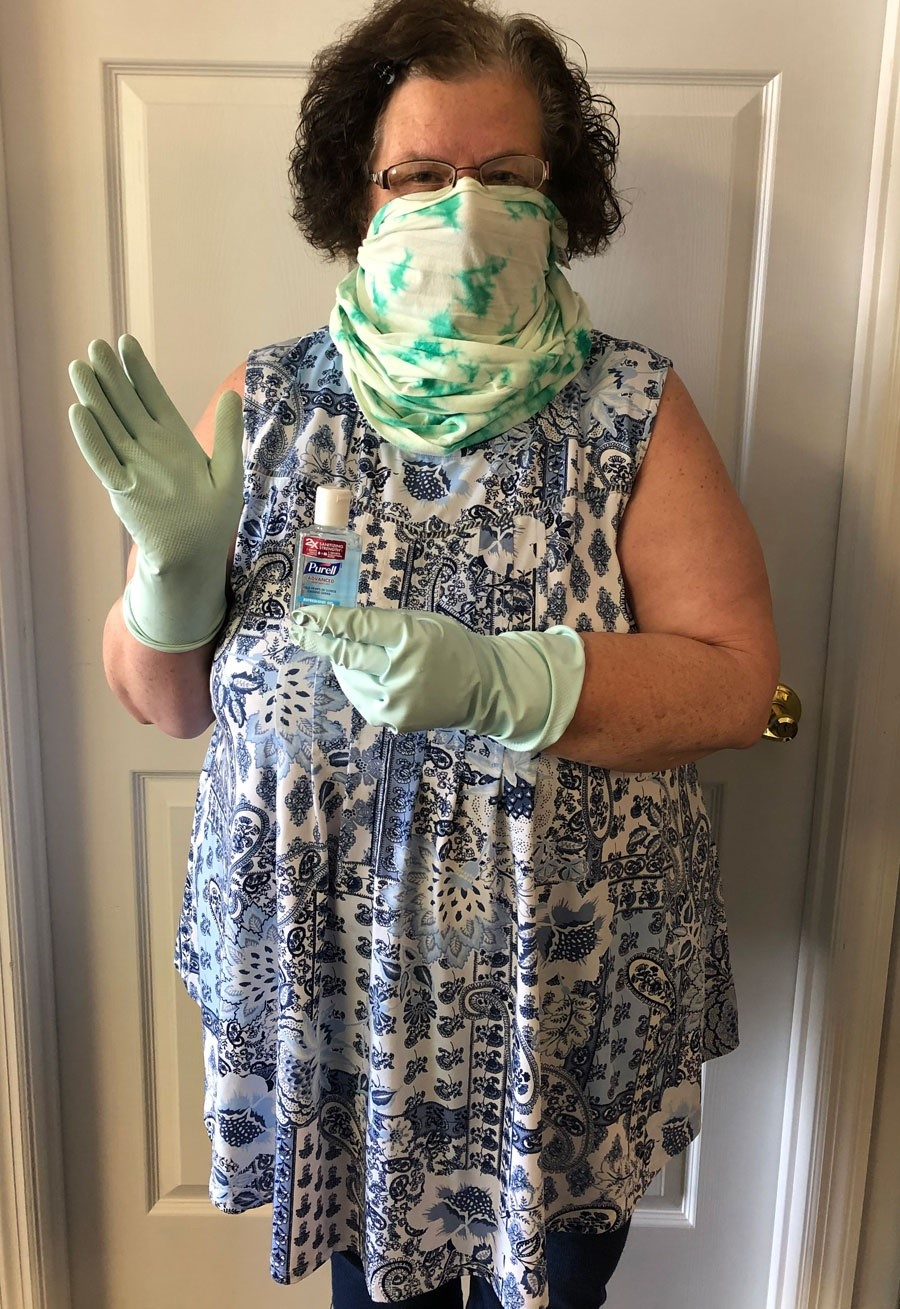face_with_mask: (341, 26, 574, 386)
